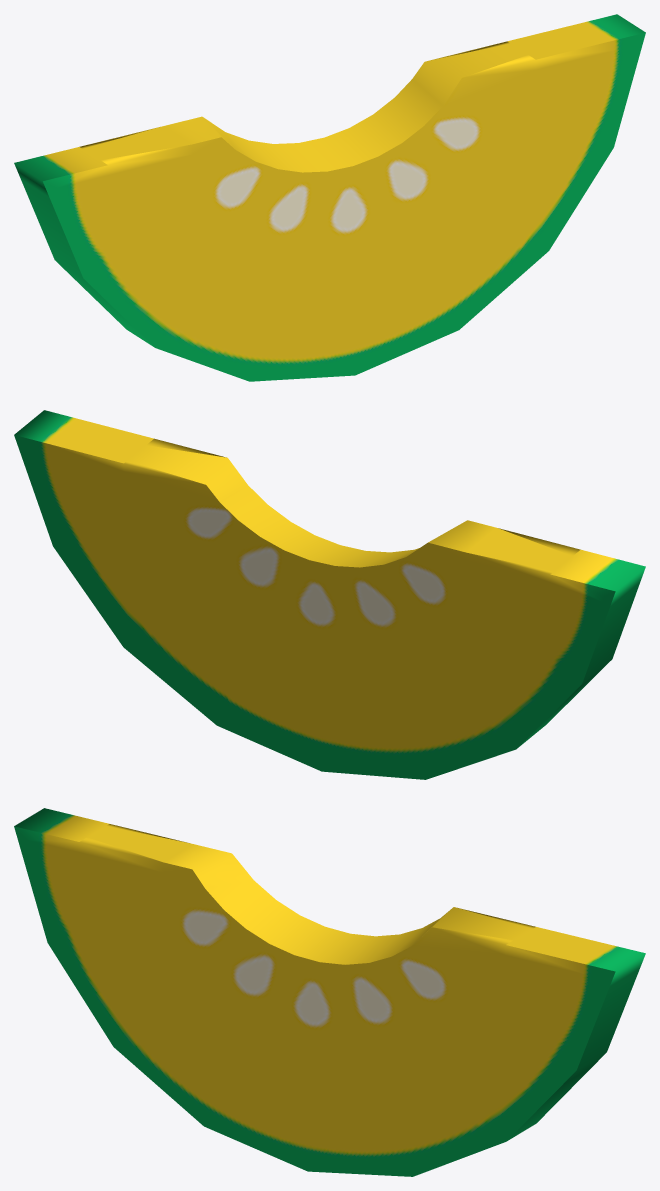
Rendered from yellow_melon.glb.
3 views of the same model, one above another, from view 1: azimuth 30°, elevation 25°; view 2: azimuth 150°, elevation 25°; view 3: azimuth 330°, elevation 25° (orthographic).
Visible parts, largest first — view 1: yellow_melon; view 2: yellow_melon; view 3: yellow_melon.
Boxes of the visible parts, box(x1,y1,x2,y2) form: yellow_melon: box(14, 14, 645, 381); yellow_melon: box(14, 410, 645, 779); yellow_melon: box(14, 808, 645, 1176).
Size of the model in its own units: 1.06 by 0.4542 by 0.1238.
1 material, 1 textured.
